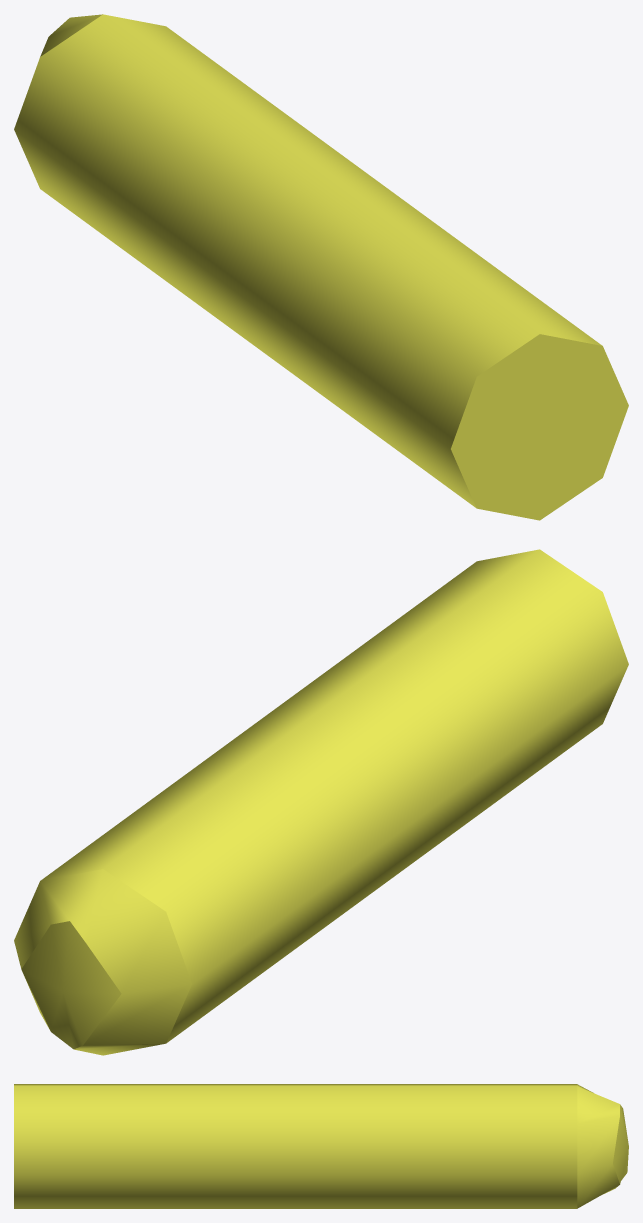
Rendered from Tiza 3.fbx.
3 renders of one model, top to bottom at view 1: azimuth 30°, elevation 25°; view 2: azimuth 150°, elevation 25°; view 3: azimuth 270°, elevation 25°, orthographic. The views are drawn at different scales.
Visible parts, largest first — view 1: Tiza_3; view 2: Tiza_3; view 3: Tiza_3.
Boxes of the visible parts, left/top/right/bottom form: Tiza_3: left=14, top=14, right=628, bottom=520; Tiza_3: left=14, top=549, right=628, bottom=1055; Tiza_3: left=14, top=1084, right=628, bottom=1208.
Size of the model in its own units: 0.02 by 0.02 by 0.0927.
